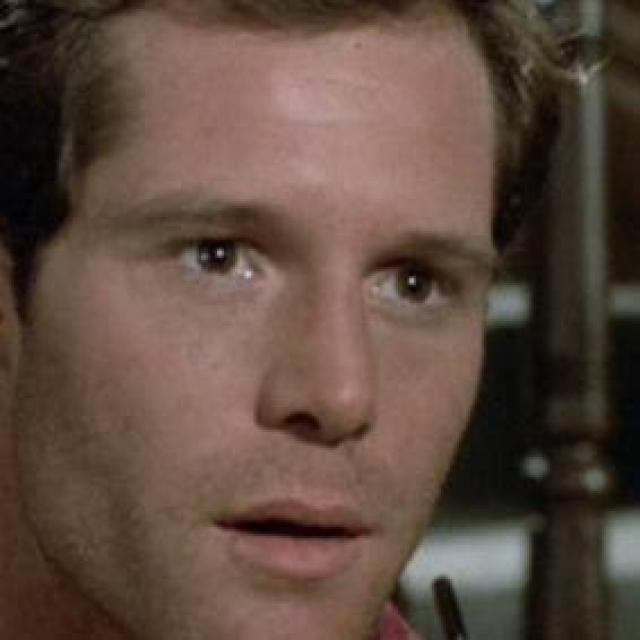surprised: (113, 11, 486, 597)
